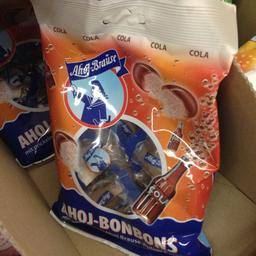candy: (37, 0, 232, 250)
